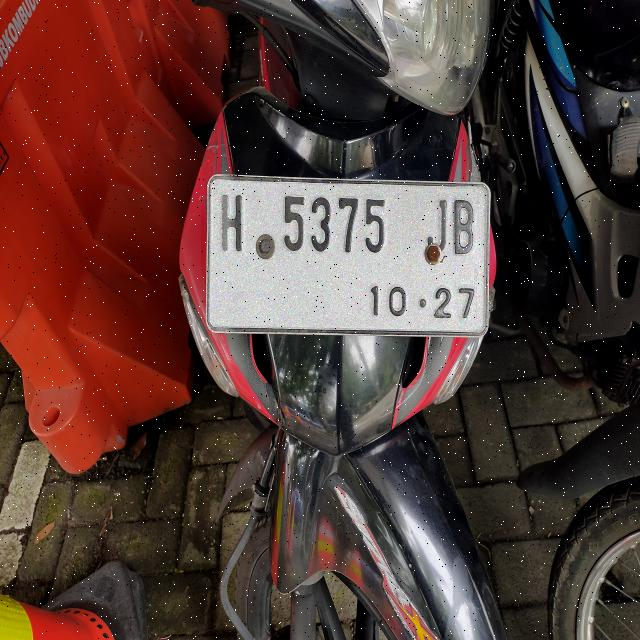plate: (207, 176, 489, 335)
